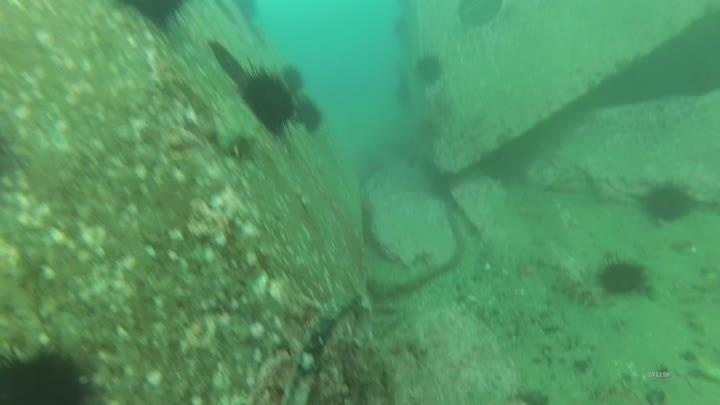echinus: (1, 338, 98, 405), (234, 64, 300, 137), (638, 179, 697, 227), (594, 254, 650, 299), (114, 1, 193, 32), (291, 94, 327, 137), (412, 51, 446, 88), (278, 63, 307, 96), (233, 1, 262, 25)
holothurian: (540, 260, 601, 307)
